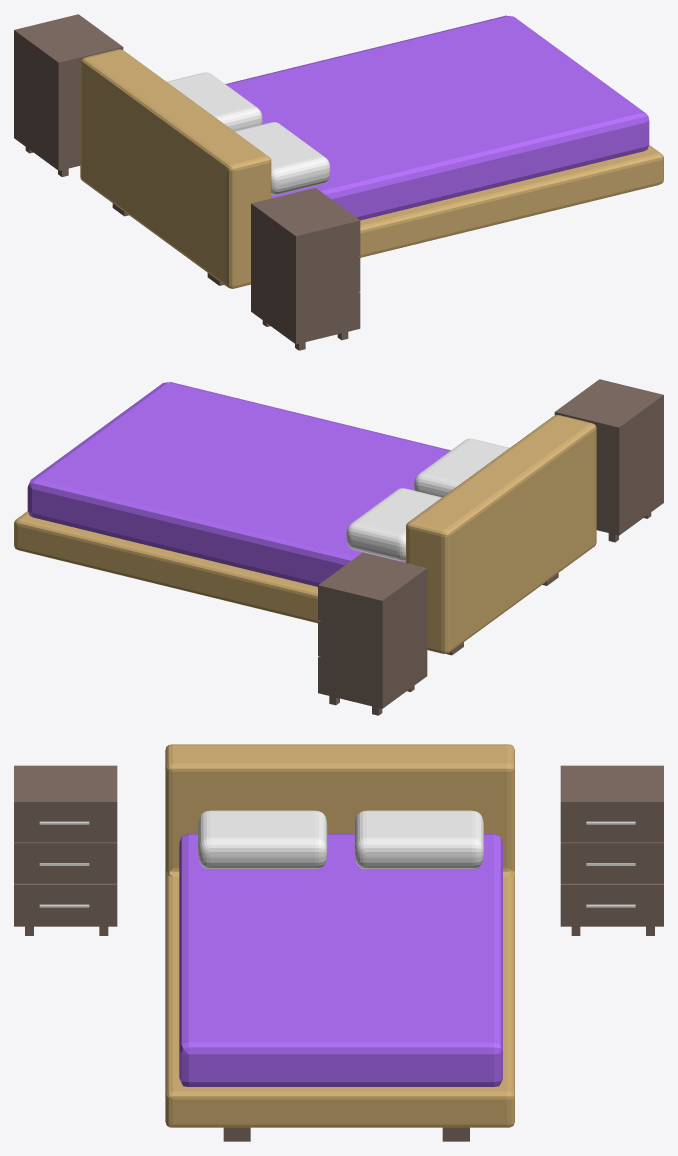
File: Bedroom.gltf
The picture shows the model from 3 angles, top to bottom: view 1: azimuth 30°, elevation 25°; view 2: azimuth 150°, elevation 25°; view 3: azimuth 270°, elevation 25°; orthographic projection. The views are drawn at different scales.
Parts seen in each view (by area): view 1: node-0; view 2: node-0; view 3: node-0.
Part boxes in pixels (x1,y1,x2,y2): node-0: [14, 14, 663, 350]; node-0: [14, 379, 663, 715]; node-0: [14, 744, 663, 1141].
Size of the model in its own units: 112913 by 34629 by 126399.
